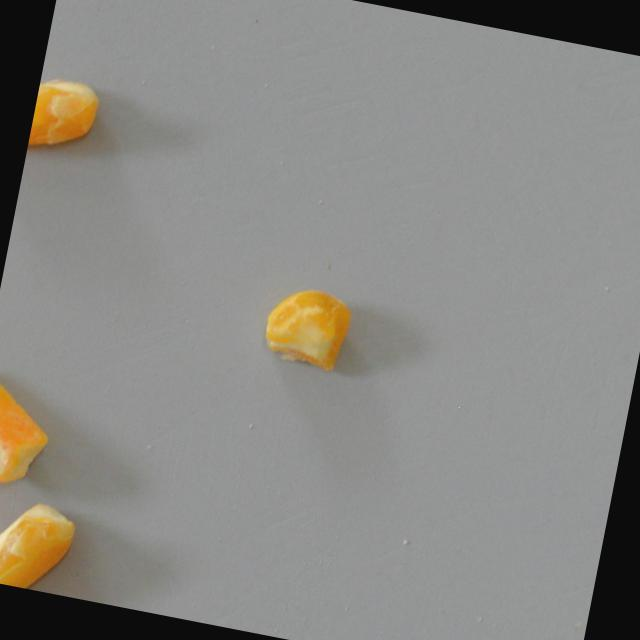pelicula: (252, 261, 368, 389), (24, 58, 112, 180), (0, 488, 89, 598), (0, 365, 63, 499)
